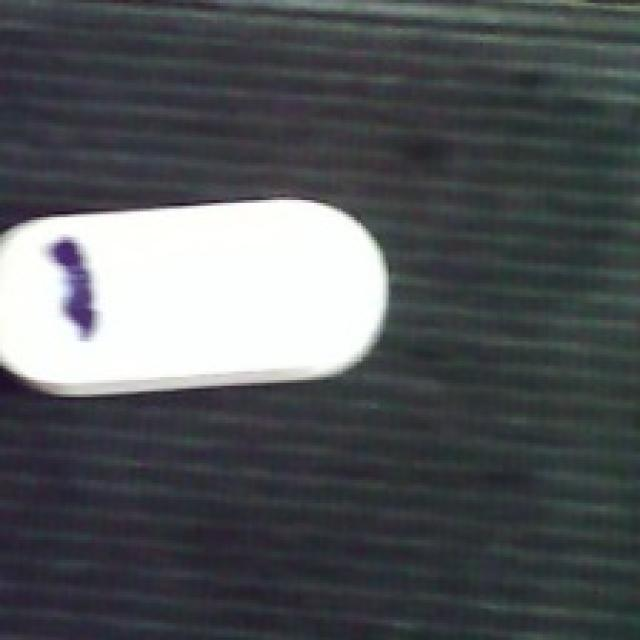defected: (0, 188, 394, 397)
